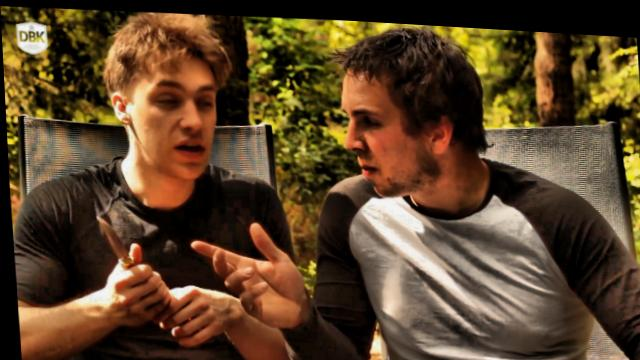knife: (78, 197, 176, 305)
